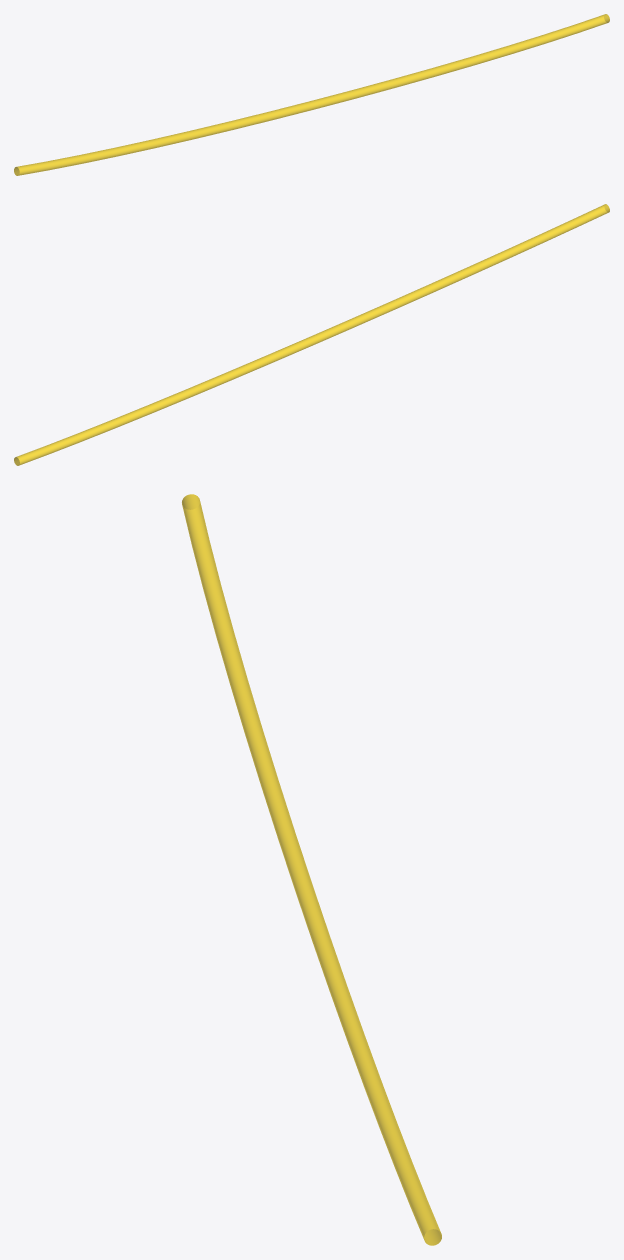
Rendered from Event_27938768_track_30.fbx.
3 renders of one model, top to bottom at view 1: azimuth 30°, elevation 25°; view 2: azimuth 210°, elevation 25°; view 3: azimuth 270°, elevation 25°, orthographic. The views are drawn at different scales.
Parts seen in each view (by area): view 1: Model; view 2: Model; view 3: Model.
Boxes of the visible parts, x1,y1,x2,y2 form: Model: (14,14,609,175); Model: (14,204,609,465); Model: (182,494,441,1245).
Bounding box in the file's own units: 3.26 × 0.2796 × 0.5643.
